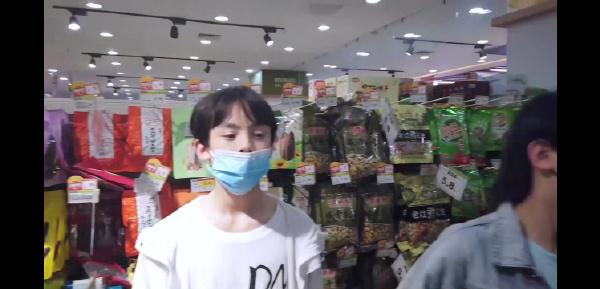WRONG: (214, 115, 272, 193)
